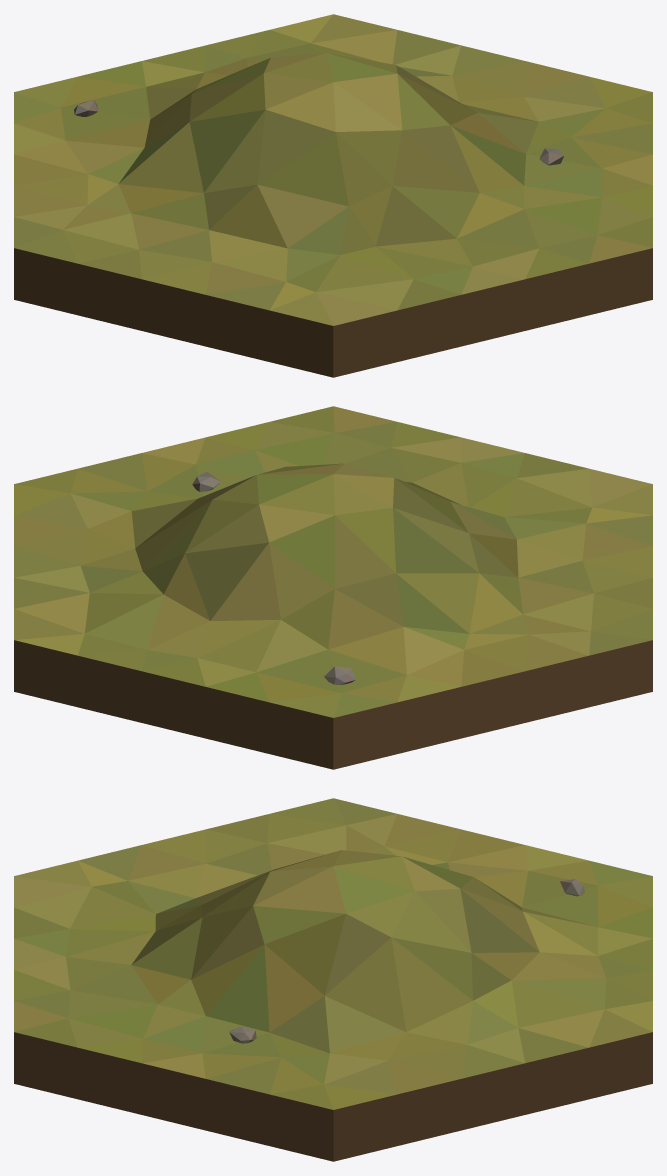
Rendered from Plains Hill2.glb.
The picture shows the model from 3 angles, top to bottom: view 1: azimuth 30°, elevation 25°; view 2: azimuth 150°, elevation 25°; view 3: azimuth 270°, elevation 25°; orthographic projection.
Visible parts, largest first — view 1: Plains Hill2; view 2: Plains Hill2; view 3: Plains Hill2.
Boxes of the visible parts, x1,y1,x2,y2 form: Plains Hill2: (14, 14, 652, 377); Plains Hill2: (14, 406, 652, 769); Plains Hill2: (14, 798, 652, 1161).
Size of the model in its own units: 1.94 by 0.4052 by 1.68.
